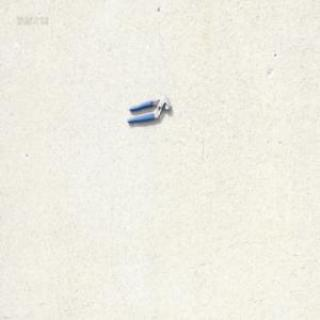Pliertrack_idkeyframe: (125, 94, 171, 124)
